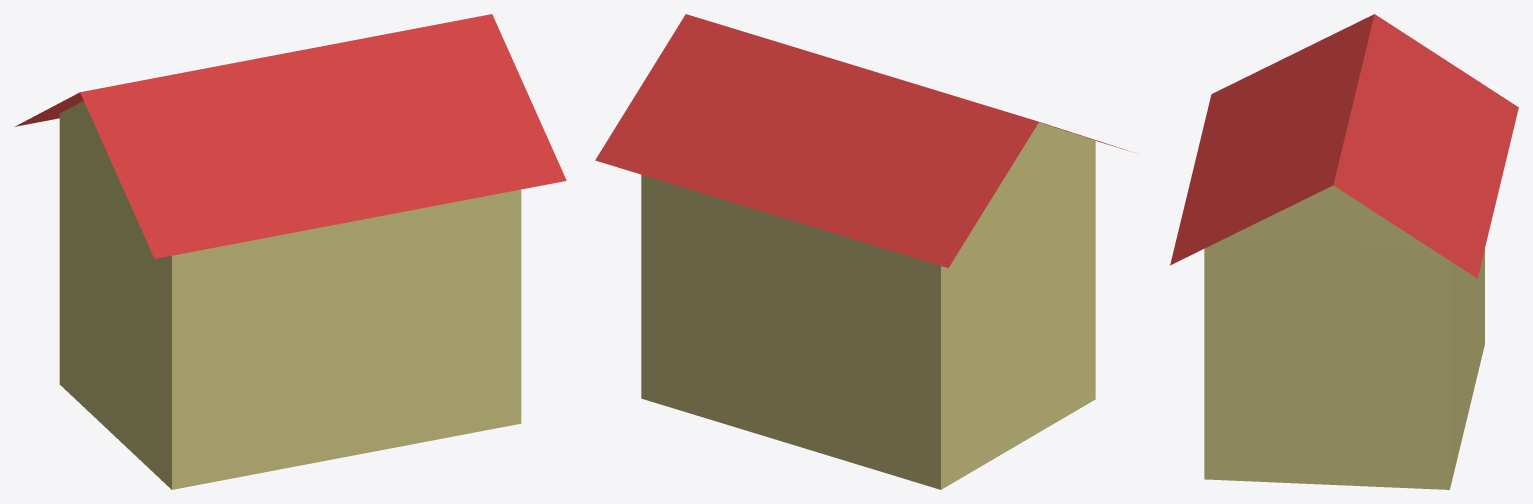
3 views of the same model, side by side, from view 1: azimuth 30°, elevation 25°; view 2: azimuth 150°, elevation 25°; view 3: azimuth 270°, elevation 25° (orthographic). The views are drawn at different scales.
Size of the model in its own units: 10.53 by 8.41 by 8.33.
